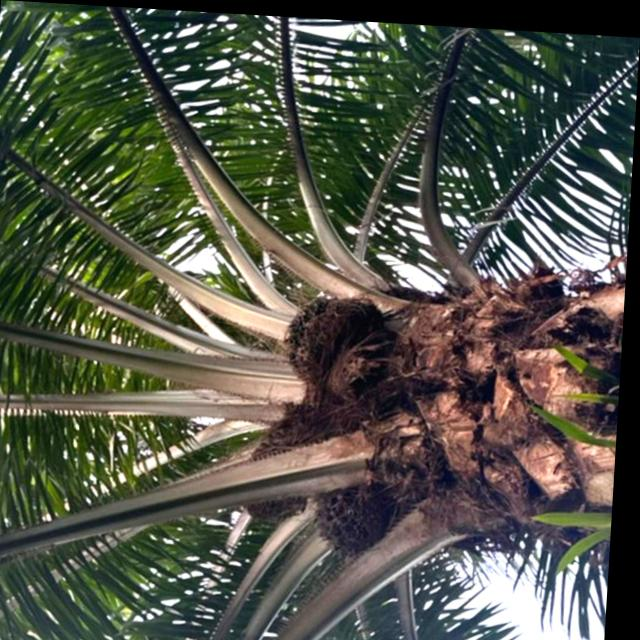unripe: (279, 287, 382, 391), (318, 478, 404, 560)
